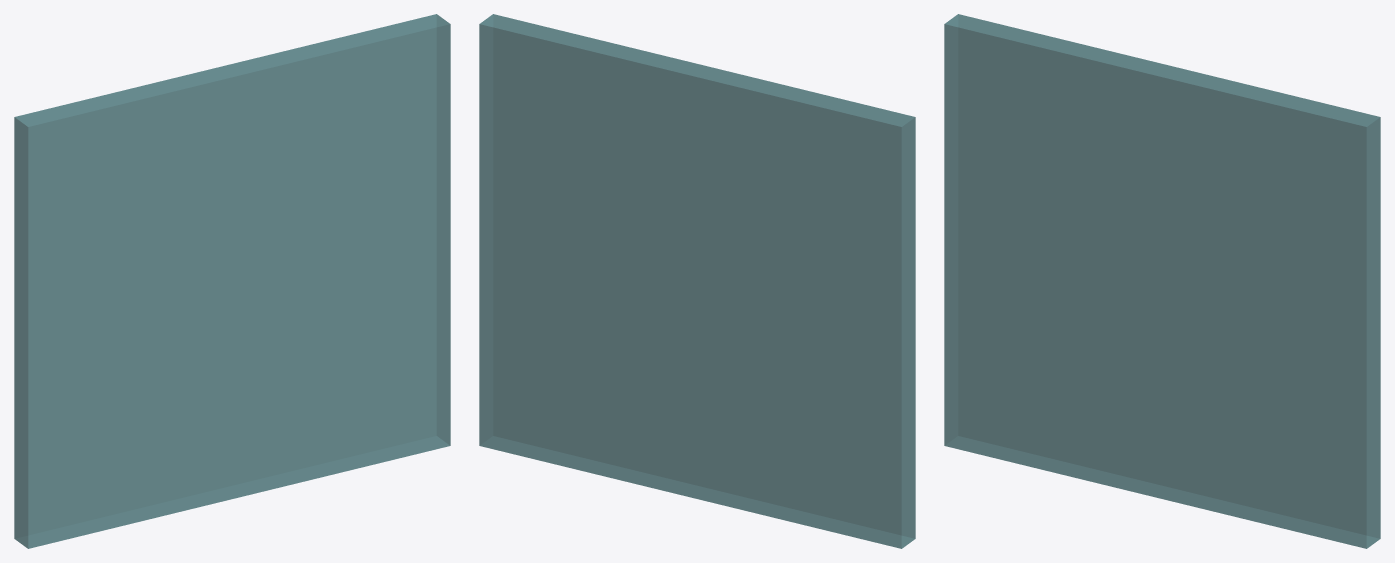
3 renders of one model, left to right at view 1: azimuth 30°, elevation 25°; view 2: azimuth 150°, elevation 25°; view 3: azimuth 330°, elevation 25°, orthographic.
Parts seen in each view (by area): view 1: A-GF-16CE; view 2: A-GF-16CE; view 3: A-GF-16CE.
Boxes of the visible parts, bbox=[...] form: A-GF-16CE: bbox=[14, 14, 450, 548]; A-GF-16CE: bbox=[479, 14, 915, 548]; A-GF-16CE: bbox=[944, 14, 1380, 548].
Bounding box in the file's own units: 2.2 × 2.1 × 0.124.
